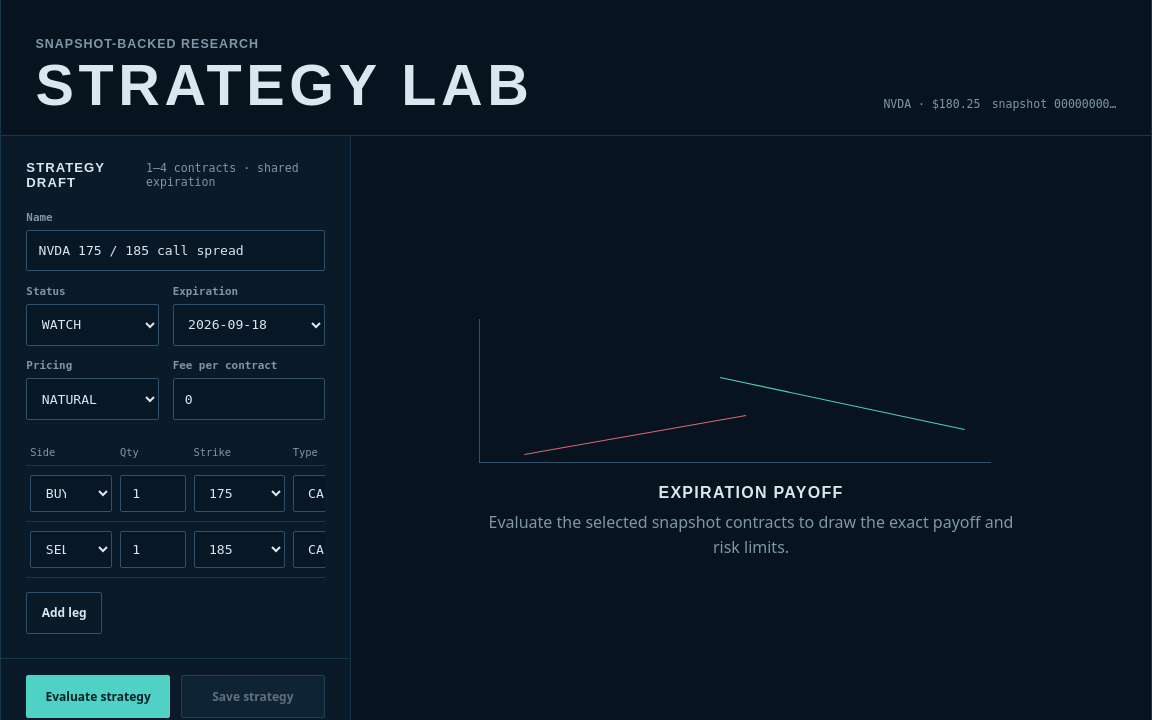
Test: StrategyLab › labels midpoint pricing as hypothetical before evaluation
The width and height of the screenshot is (1152, 720).
Select "MIDPOINT" in the dropdown labelled "Pricing": (93, 399) [26, 378, 159, 420]
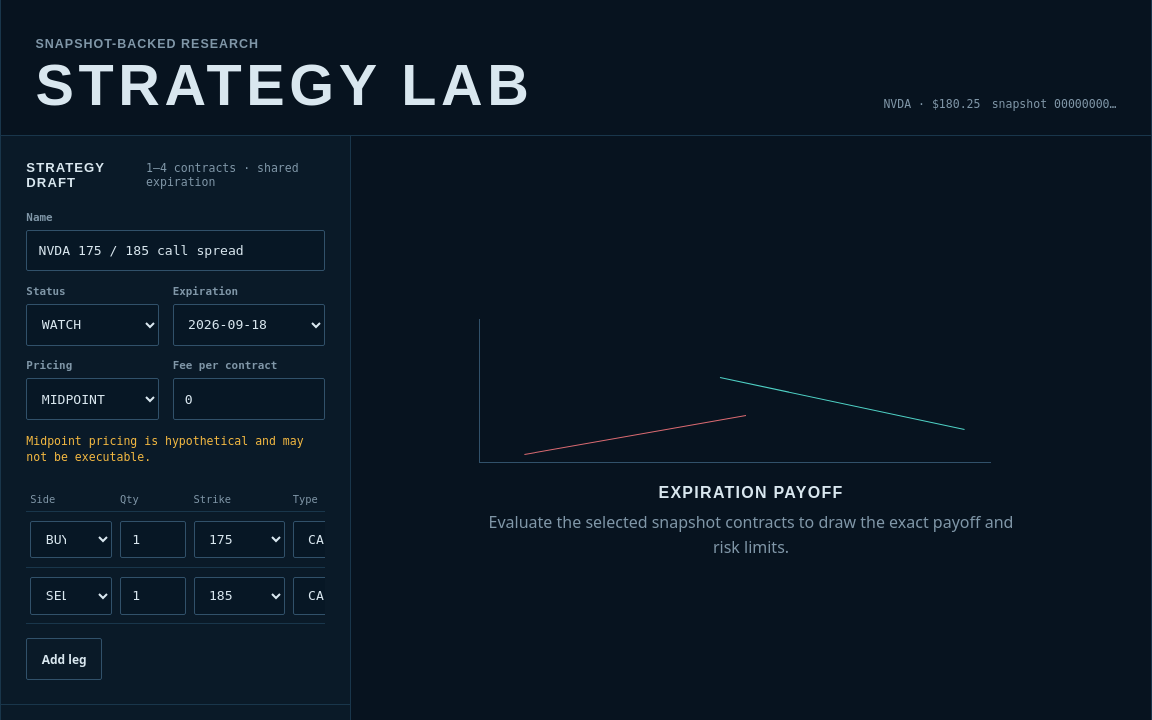
Result: the text "Midpoint pricing is hypothetical and may not be executable." is shown at [26, 433, 325, 466]
